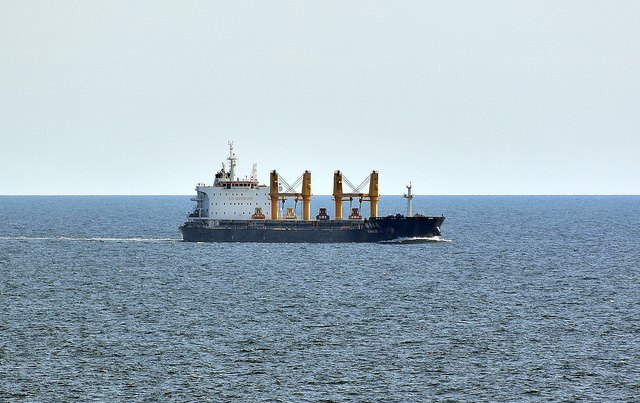bulk carrier: (182, 140, 448, 244)
